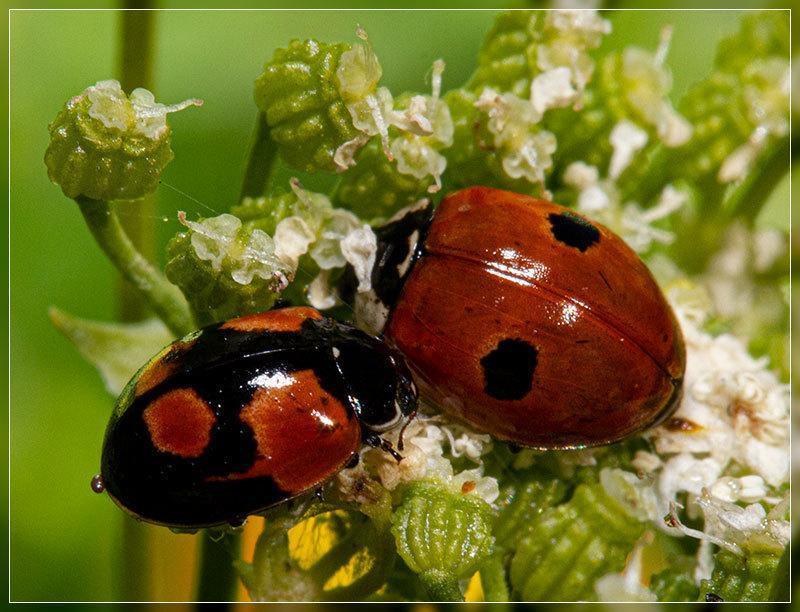ladybug: (331, 183, 691, 451), (99, 304, 424, 529)
